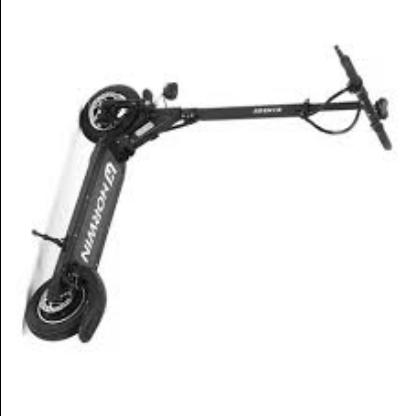bike: (24, 38, 399, 345)
